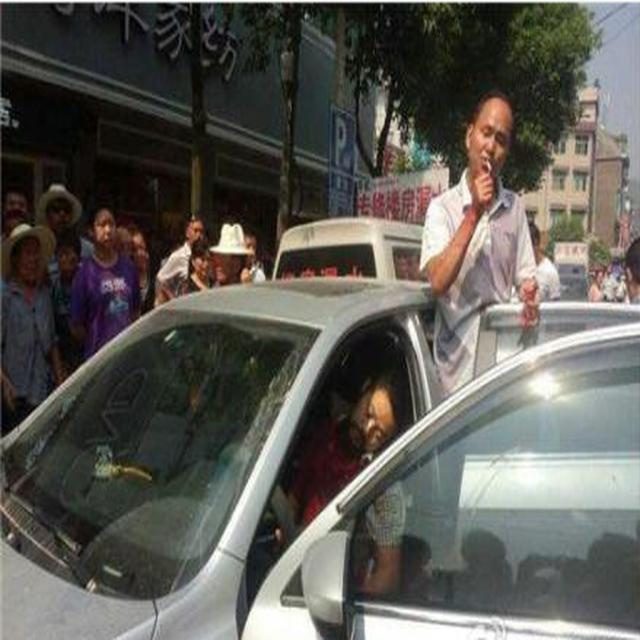smoking: (448, 73, 532, 230)
